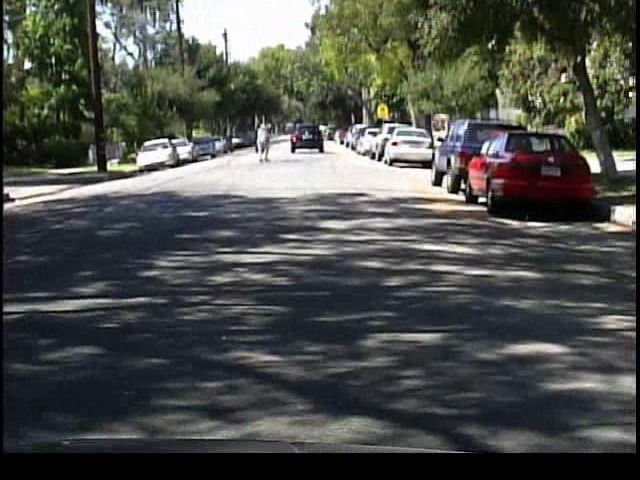person: (252, 130, 277, 176)
